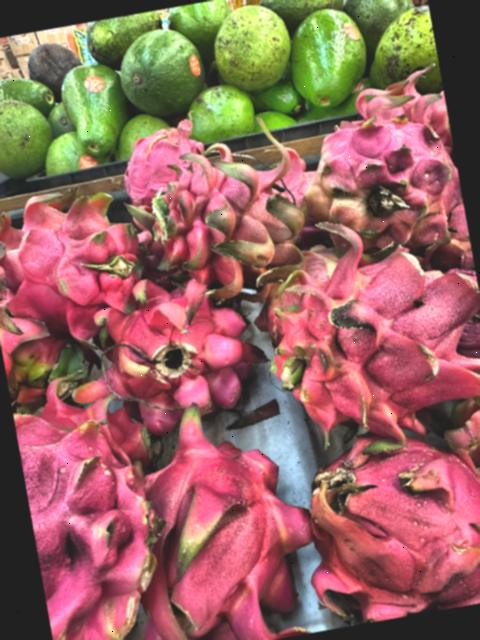buah-naga-belum-matang: (290, 91, 459, 268)
buah-naga-matang: (251, 203, 480, 446), (117, 388, 332, 640), (274, 397, 480, 632), (10, 377, 181, 640), (85, 260, 270, 441), (138, 136, 310, 296), (0, 175, 148, 345), (342, 70, 450, 154), (112, 118, 202, 196)
